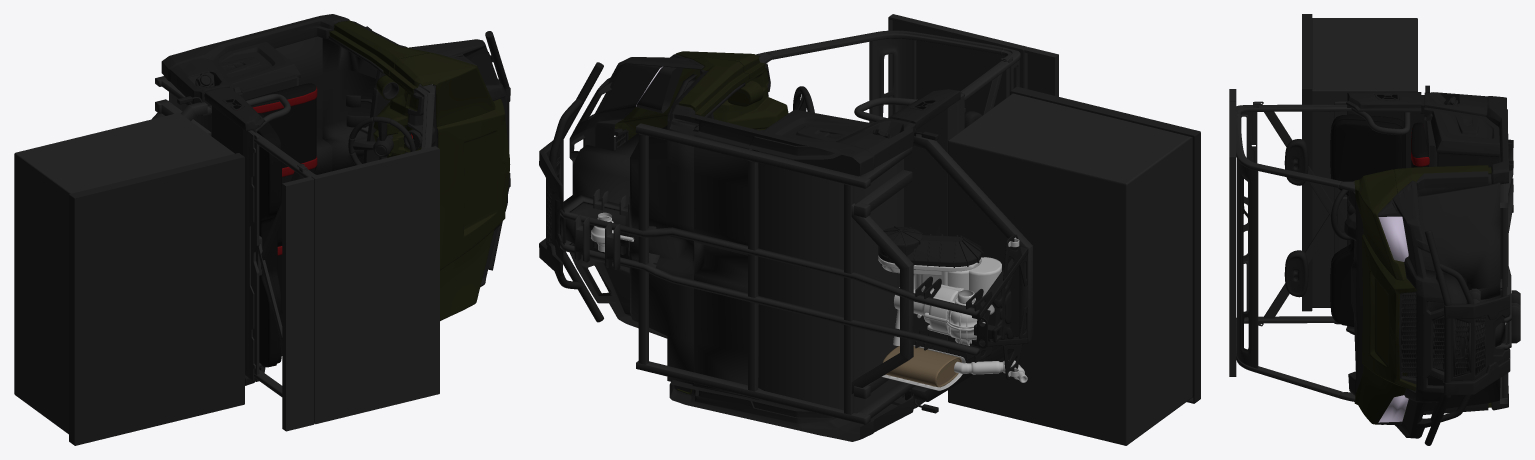
The model's file is Chassis.obj.
3 views of the same model, side by side, from view 1: azimuth 30°, elevation 25°; view 2: azimuth 150°, elevation 25°; view 3: azimuth 270°, elevation 25° (orthographic). The views are drawn at different scales.
Visible parts, largest first — view 1: compute_box_cover_Cube.001, roof_front_Cube.002, compute_box_Cube, body_front, plastic_body, roof_rear_Cube.003, seat, floor, frame_01, plastic_front, dashboard, plastic_dashboard (+4 smaller); view 2: compute_box_Cube, frame, floor, plastic_body, plastic_front, frame_01, roof_front_Cube.002, body_front, inside, compute_box_cover_Cube.001, cvt_cover_engine_black, dashboard (+8 smaller); view 3: compute_box_Cube, plastic_front, frame_01, body_front, plastic_body, floor, seat, inside, grid_front, compute_box_cover_Cube.001, frame, roof_front_Cube.002 (+6 smaller).
Part boxes in pixels (x1=…): compute_box_cover_Cube.001: x1=69, y1=153, x2=244, y2=445; roof_front_Cube.002: x1=311, y1=146, x2=439, y2=424; compute_box_Cube: x1=14, y1=113, x2=234, y2=434; body_front: x1=329, y1=20, x2=510, y2=320; plastic_body: x1=161, y1=14, x2=349, y2=385; roof_rear_Cube.003: x1=282, y1=176, x2=314, y2=431; seat: x1=245, y1=83, x2=316, y2=367; floor: x1=275, y1=36, x2=437, y2=174; frame_01: x1=243, y1=84, x2=434, y2=396; plastic_front: x1=350, y1=20, x2=510, y2=286; dashboard: x1=373, y1=71, x2=421, y2=157; plastic_dashboard: x1=363, y1=70, x2=437, y2=163; compute_box_Cube: x1=948, y1=93, x2=1192, y2=445; frame: x1=560, y1=123, x2=1032, y2=424; floor: x1=629, y1=74, x2=759, y2=399; plastic_body: x1=669, y1=89, x2=960, y2=441; plastic_front: x1=539, y1=54, x2=708, y2=338; frame_01: x1=755, y1=30, x2=1020, y2=352; roof_front_Cube.002: x1=888, y1=14, x2=1027, y2=117; body_front: x1=615, y1=51, x2=765, y2=394; inside: x1=561, y1=133, x2=638, y2=267; compute_box_cover_Cube.001: x1=1010, y1=86, x2=1200, y2=403; cvt_cover_engine_black: x1=878, y1=226, x2=983, y2=267; dashboard: x1=695, y1=68, x2=788, y2=130; compute_box_Cube: x1=1312, y1=18, x2=1417, y2=307; plastic_front: x1=1377, y1=171, x2=1510, y2=438; frame_01: x1=1236, y1=100, x2=1410, y2=401; body_front: x1=1354, y1=165, x2=1491, y2=424; plastic_body: x1=1346, y1=92, x2=1508, y2=410; floor: x1=1407, y1=154, x2=1500, y2=411; seat: x1=1330, y1=114, x2=1429, y2=326; inside: x1=1401, y1=269, x2=1505, y2=382; grid_front: x1=1401, y1=292, x2=1485, y2=377; compute_box_cover_Cube.001: x1=1302, y1=14, x2=1312, y2=311; frame: x1=1471, y1=109, x2=1520, y2=403; roof_front_Cube.002: x1=1229, y1=102, x2=1236, y2=376.
Size of the model in its own units: 3.12 by 1.56 by 1.69.
